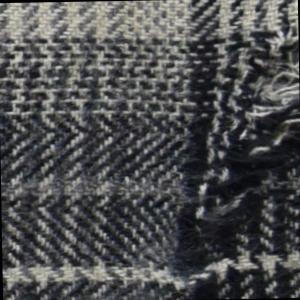Damage: (158, 21, 300, 300)
